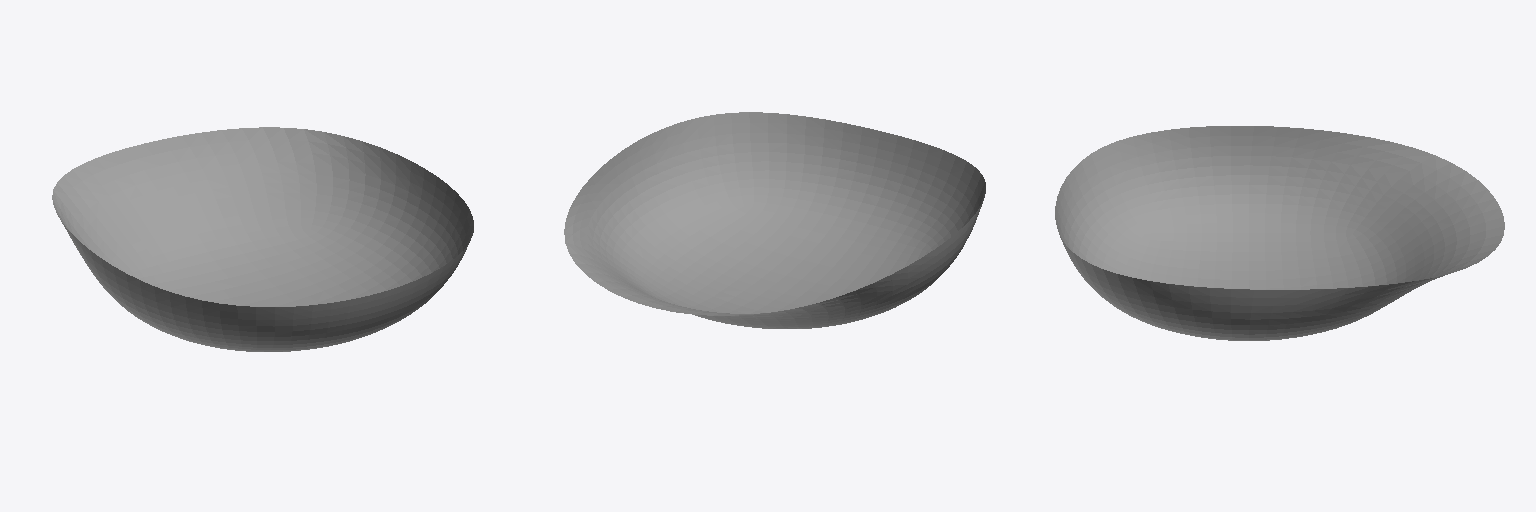
File: lanternlamp.obj
The picture shows the model from 3 angles: view 1: azimuth 30°, elevation 25°; view 2: azimuth 150°, elevation 25°; view 3: azimuth 270°, elevation 25°; orthographic projection.
Visible parts, largest first — view 1: Cube.002; view 2: Cube.002; view 3: Cube.002.
Part boxes in pixels (x1,y1,x2,y2): Cube.002: (52, 127, 473, 351); Cube.002: (564, 112, 985, 328); Cube.002: (1055, 126, 1504, 340).
Size of the model in its own units: 0.4912 by 0.1375 by 0.5702.